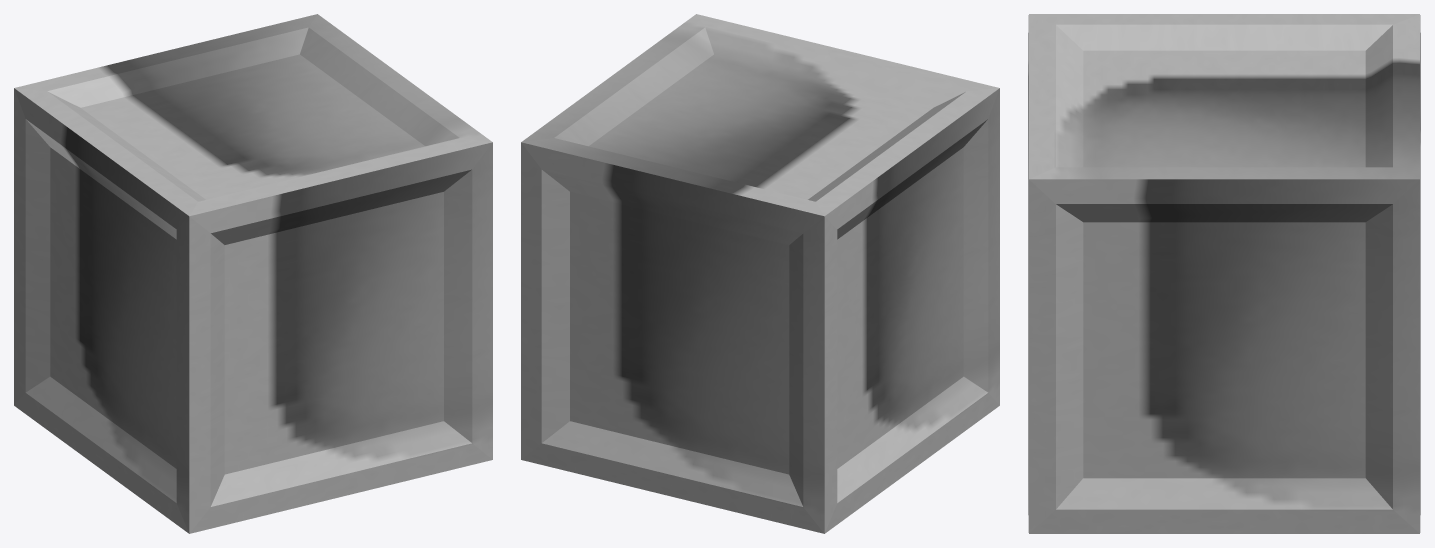
Rendered from crateB.FBX.
The picture shows the model from 3 angles, left to right: view 1: azimuth 30°, elevation 25°; view 2: azimuth 150°, elevation 25°; view 3: azimuth 270°, elevation 25°; orthographic projection. The views are drawn at different scales.
Visible parts, largest first — view 1: crateB; view 2: crateB; view 3: crateB.
Boxes of the visible parts, <box> form: crateB: <box>14,14,492,533</box>; crateB: <box>521,14,999,533</box>; crateB: <box>1028,14,1420,533</box>.
Bounding box in the file's own units: 40.14 × 40.14 × 40.14.
